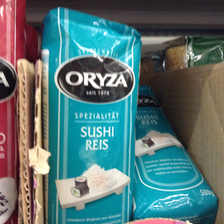rice: (40, 6, 141, 223), (134, 86, 219, 223)
